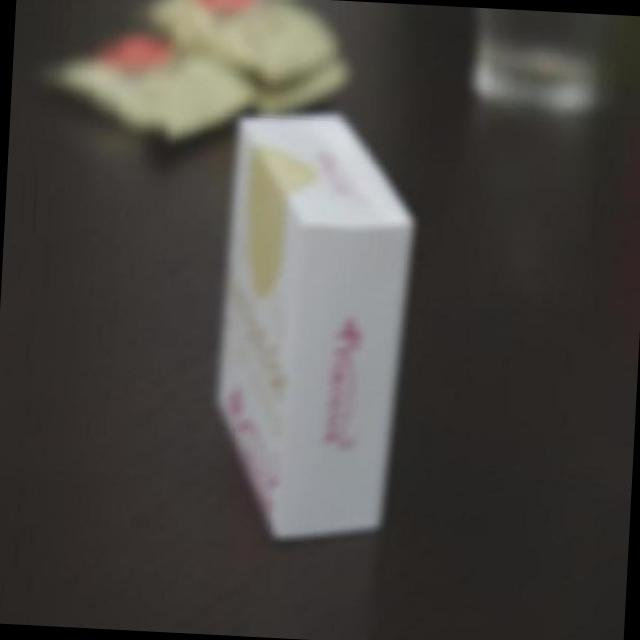box: (176, 118, 435, 580)
